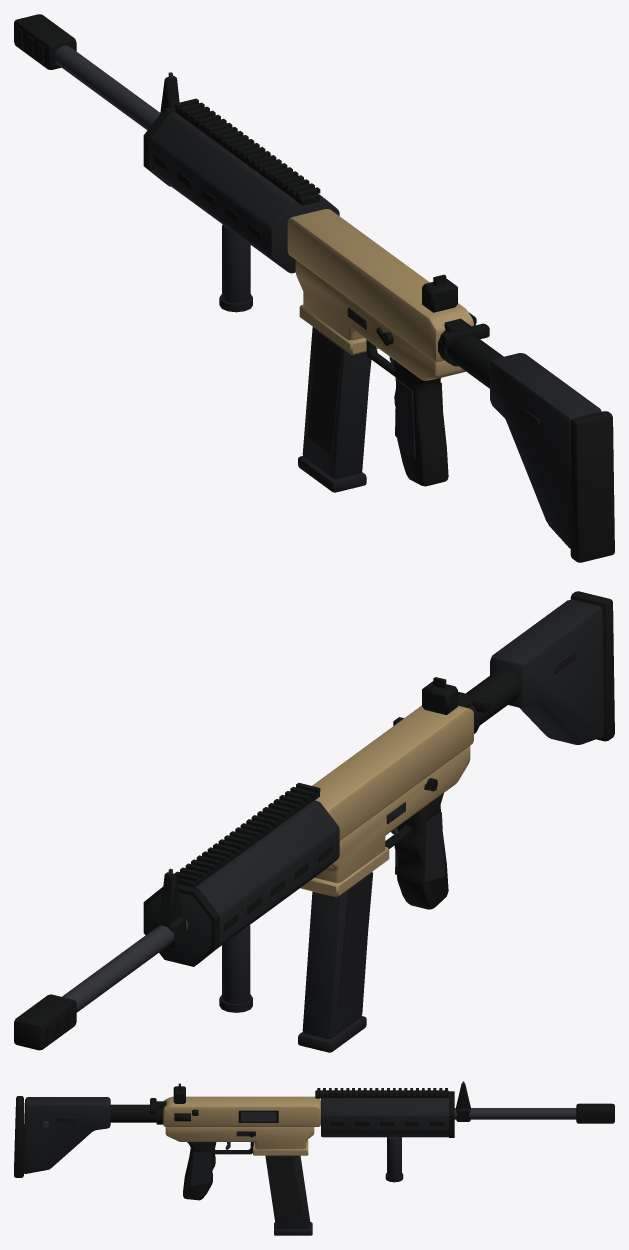
Rendered from gun_12.glb.
The picture shows the model from 3 angles, top to bottom: view 1: azimuth 30°, elevation 25°; view 2: azimuth 150°, elevation 25°; view 3: azimuth 270°, elevation 25°; orthographic projection. The views are drawn at different scales.
Visible parts, largest first — view 1: gun_12; view 2: gun_12; view 3: gun_12.
Boxes of the visible parts, left/top/right/bottom form: gun_12: left=14, top=14, right=614, bottom=562; gun_12: left=14, top=591, right=614, bottom=1052; gun_12: left=14, top=1081, right=614, bottom=1235.
Bounding box in the file's own units: 0.0786 × 0.2999 × 1.09.
